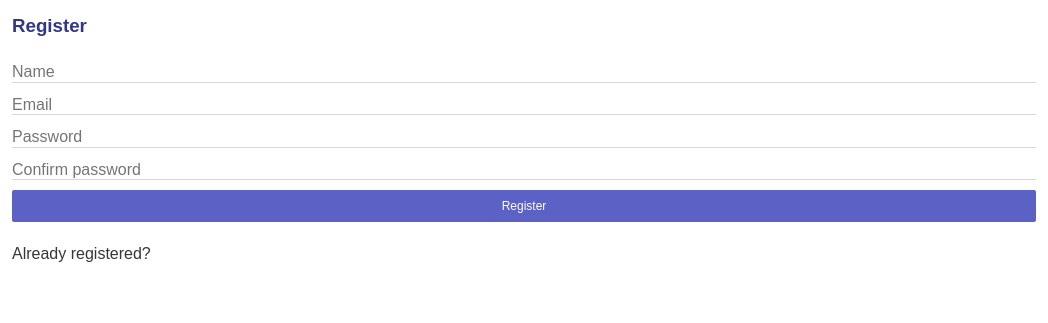
Test: Test on <RegisterScreen /> › should display a confirmPassword error
This screenshot has width=1048, height=323.
Type "testing new user" into the field with placeholder "Name" at (524, 73), box [12,63,1036,83]
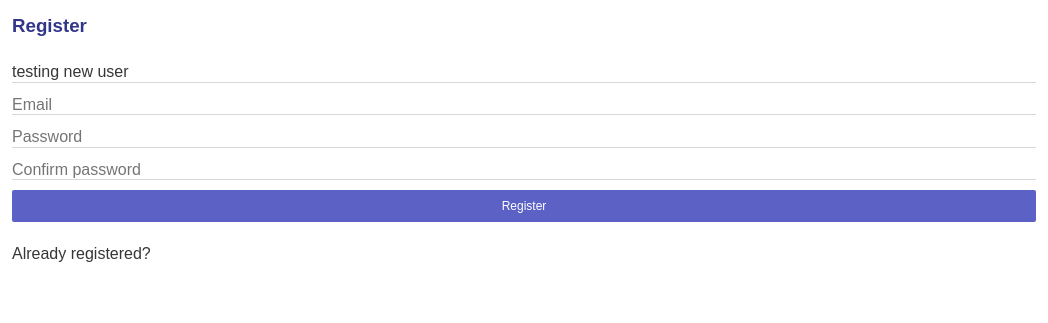
Type "testing_new_user@gmail.com" into the field with placeholder "Email" at (524, 105), box [12,95,1036,115]
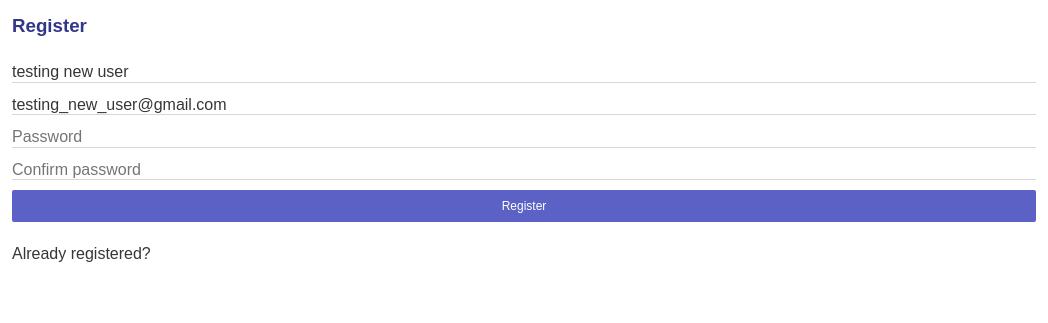
Type "123456" into the password field with placeholder "Password" at (524, 138), box [12,128,1036,148]
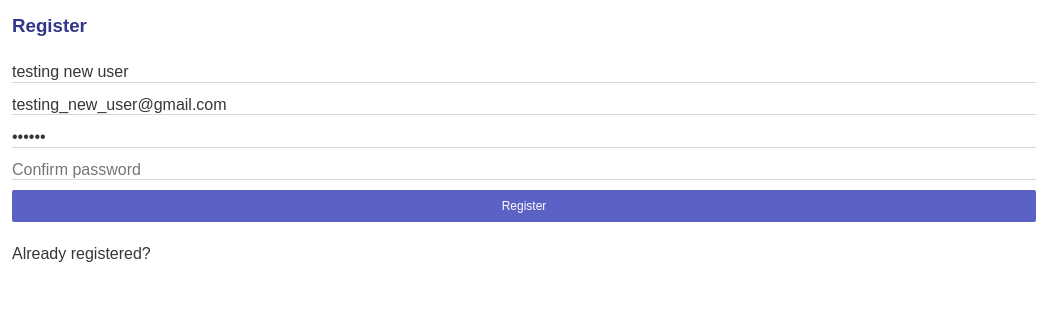
Type "123456" into the password field with placeholder "Confirm password" at (524, 170), box [12,160,1036,180]
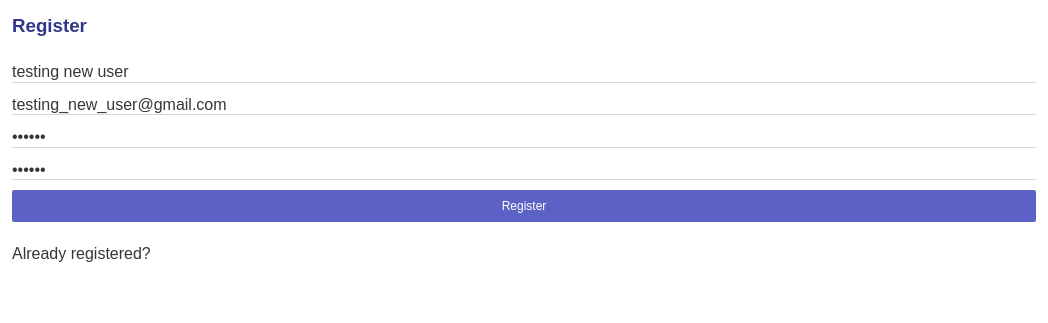
Clear the 2nd password field with placeholder "Confirm password" at (524, 170), box [12,160,1036,180]
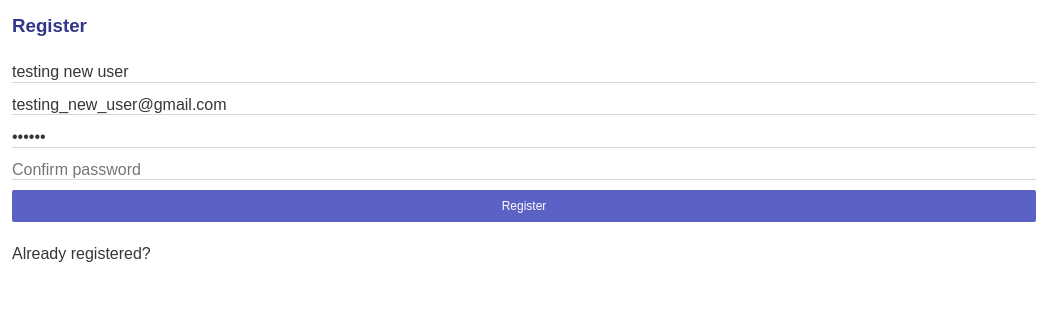
Click the button at (524, 206), box [12,190,1036,222]
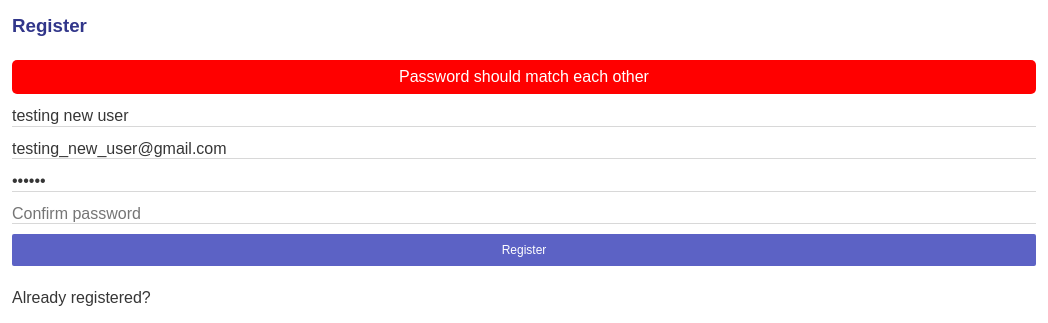
Now the text "Password should match each other" is shown, box [12,60,1036,94]
